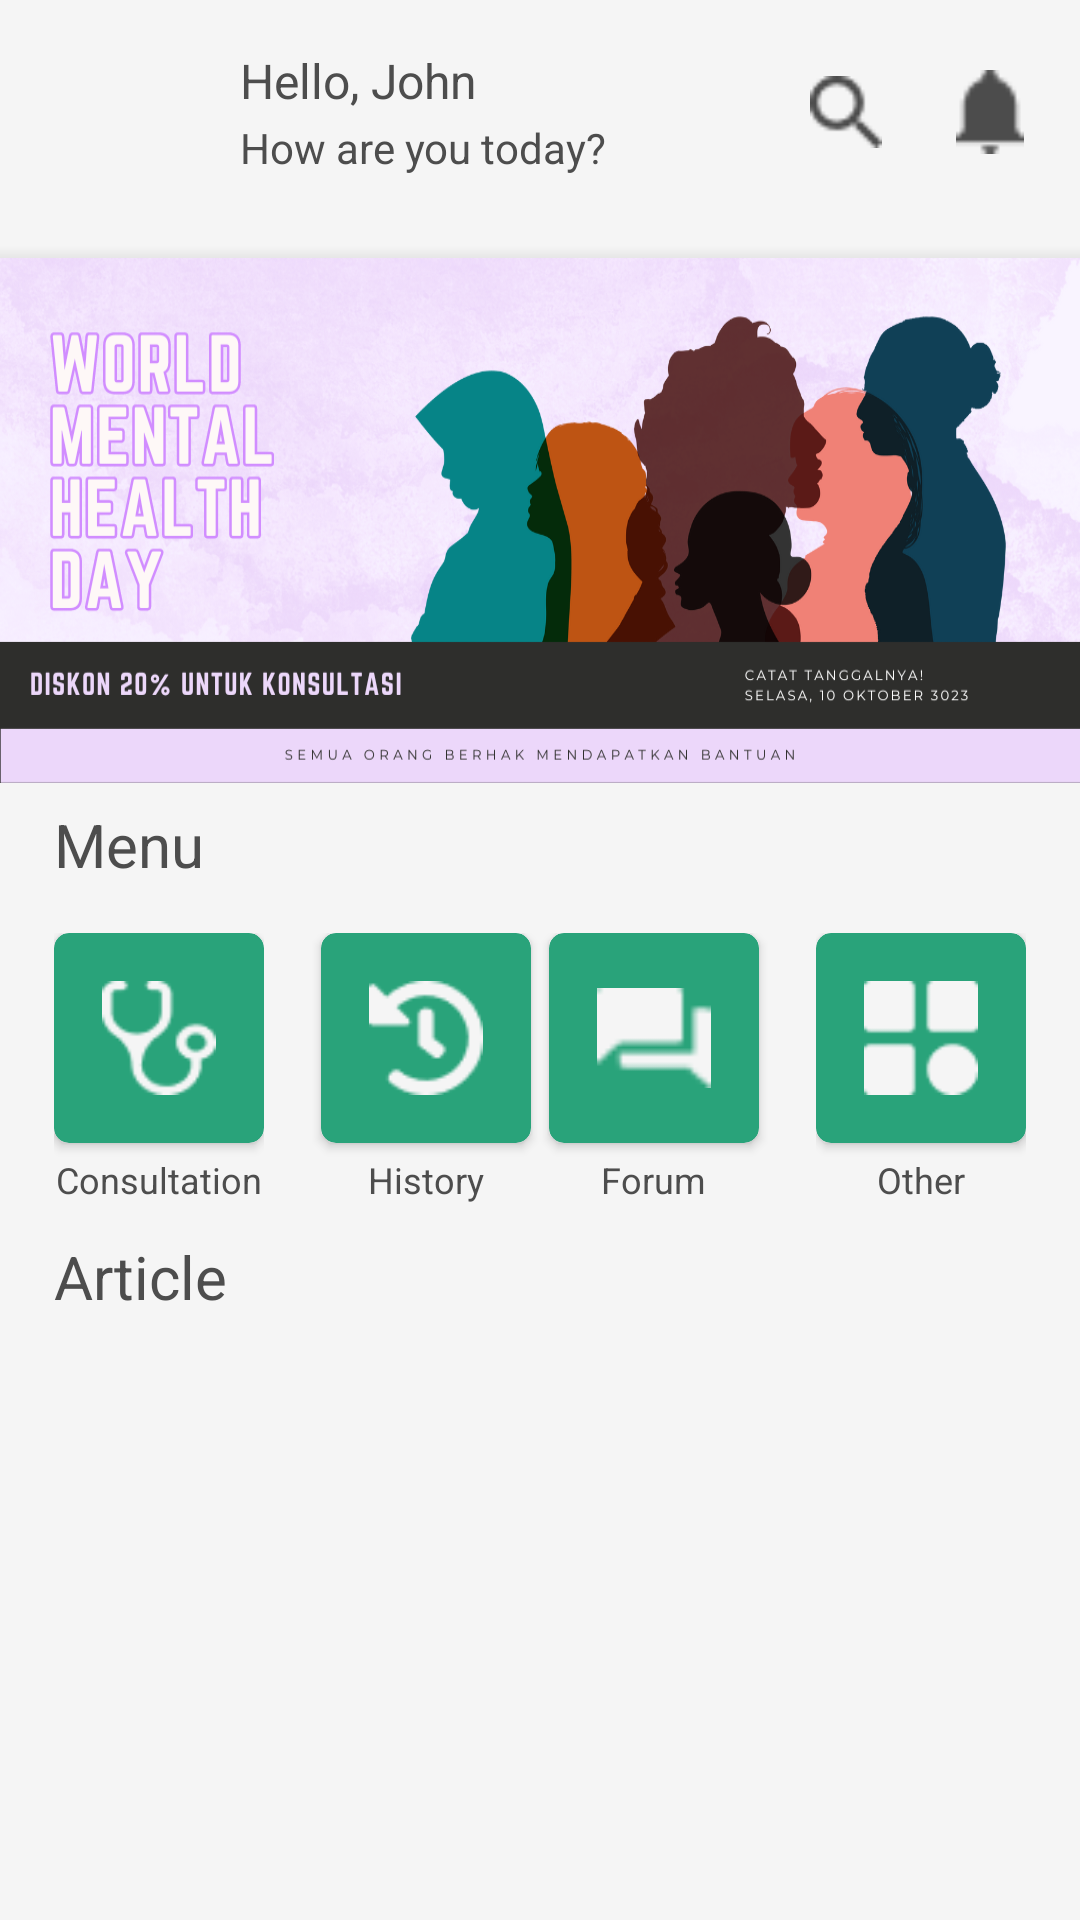

Icon bounding boxes for this 1080*1920 phone screenshot, format (x1, y1, x2, y2):
notification: (956, 70, 1024, 154)
search: (810, 76, 882, 148)
